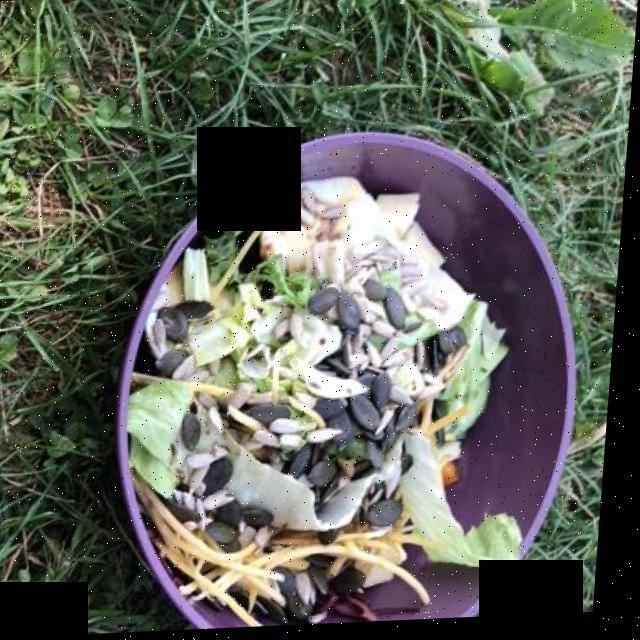mixed-seeds: (181, 236, 498, 580)
salad: (151, 176, 520, 583), (149, 198, 480, 594)
